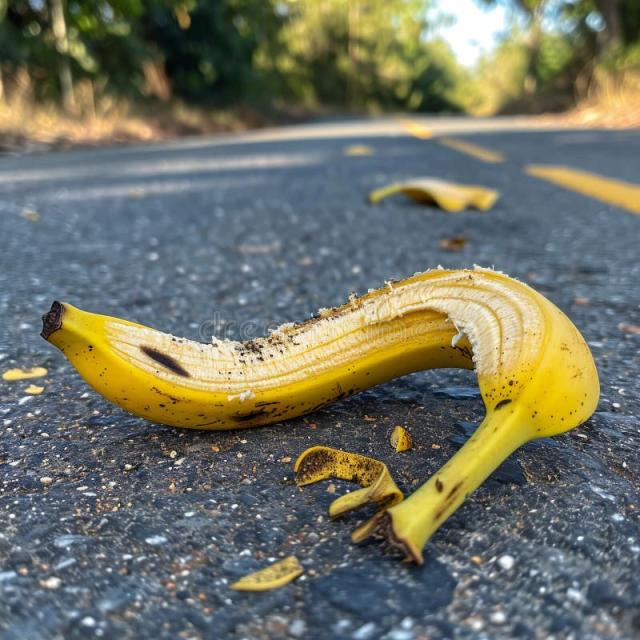banana_peel: (33, 252, 625, 603)
